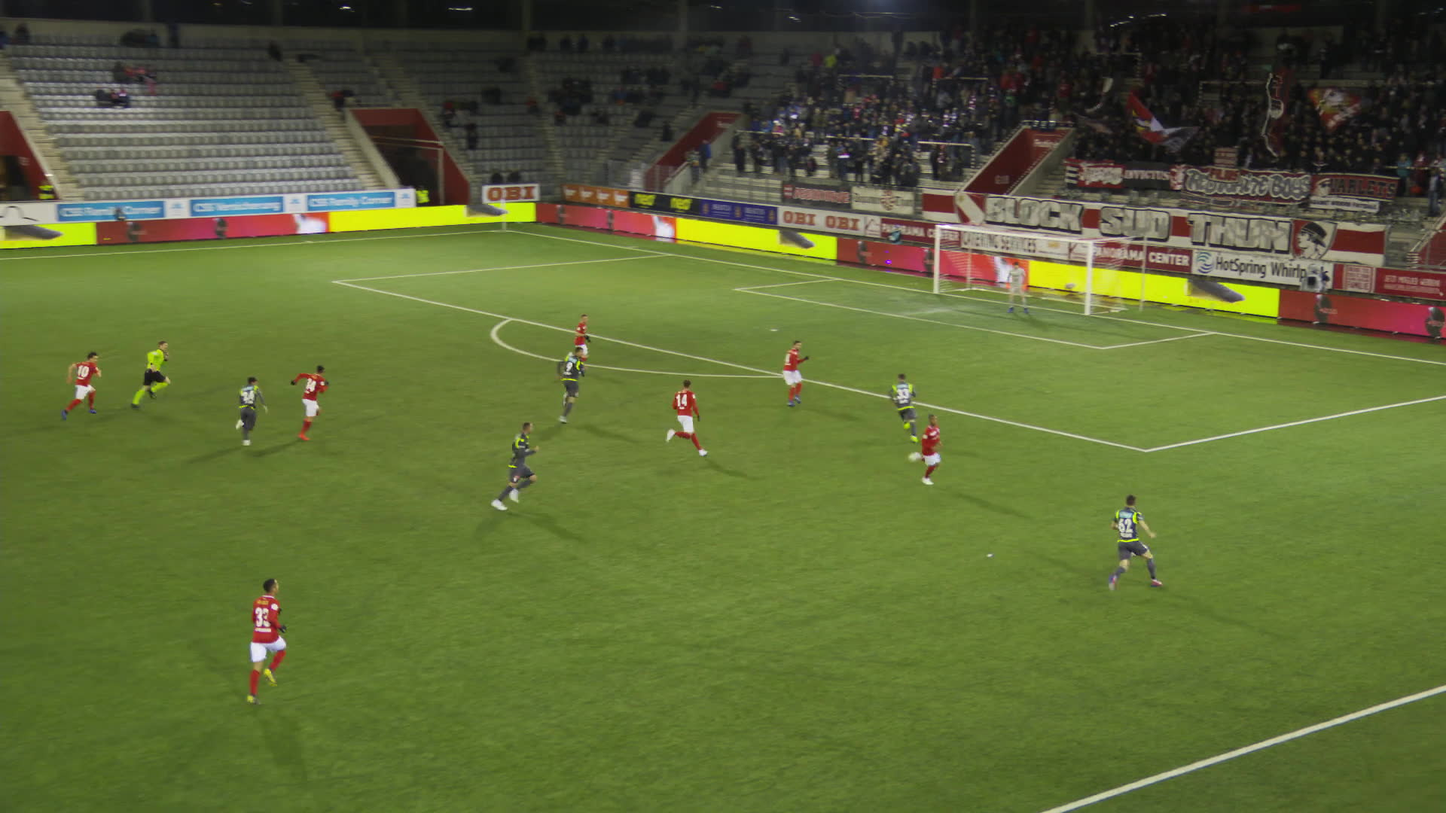ball: (1130, 550, 1135, 555)
player: (245, 578, 289, 707), (1108, 494, 1160, 594), (491, 419, 540, 510), (289, 364, 329, 441), (902, 413, 944, 485), (667, 379, 706, 456), (59, 351, 101, 421), (235, 376, 267, 445), (560, 346, 588, 424), (888, 373, 918, 442), (785, 339, 810, 407), (1008, 262, 1033, 314), (572, 314, 592, 361)
referee: (133, 340, 172, 409)
